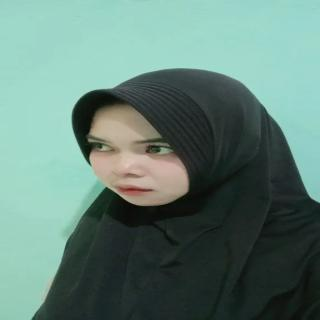Marah: (87, 100, 196, 211)
